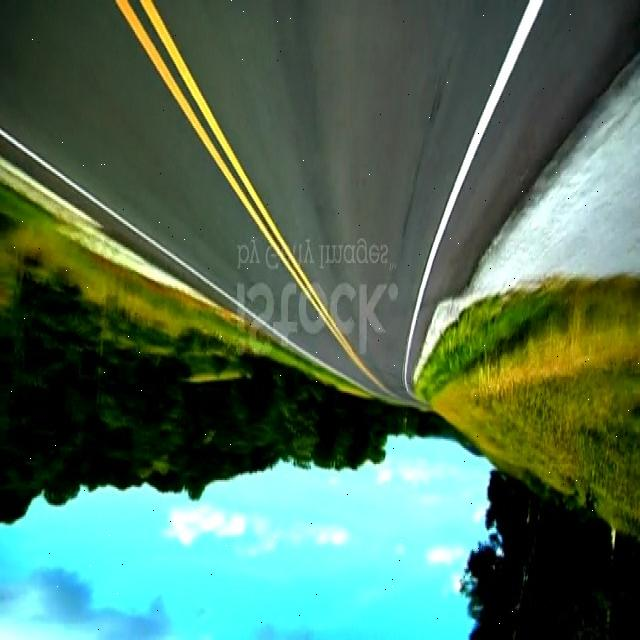lane: (114, 3, 384, 393), (405, 1, 540, 391)
road: (2, 4, 639, 406)
